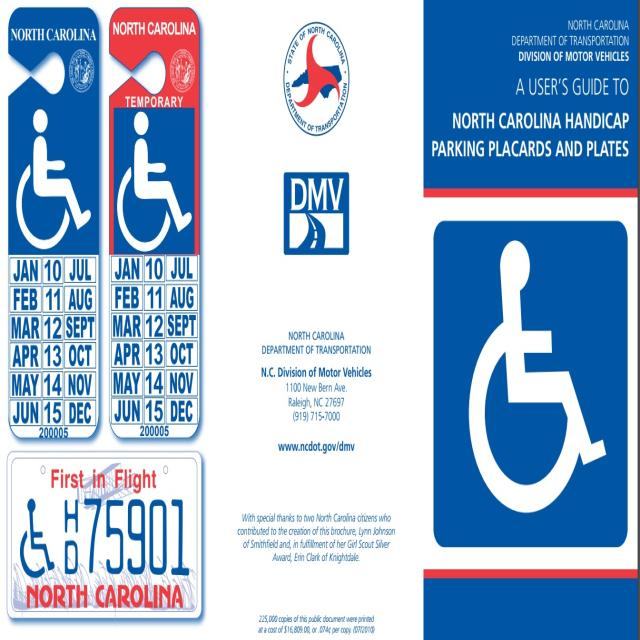symbol_of_access: (446, 230, 620, 531), (14, 106, 96, 254), (116, 109, 192, 251), (16, 492, 57, 580)
